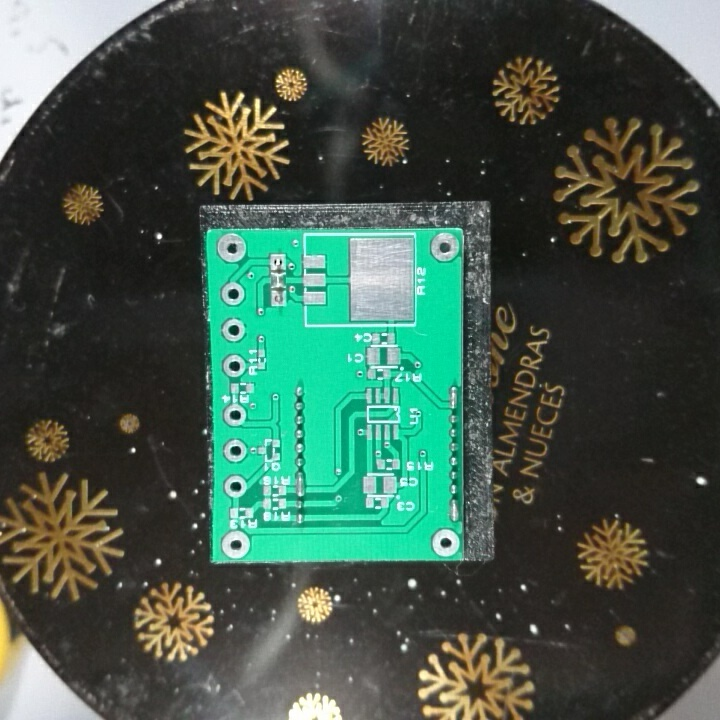F: (218, 526, 253, 559), (215, 230, 248, 264), (429, 232, 460, 265), (431, 526, 462, 557), (219, 351, 247, 383), (221, 436, 249, 466), (221, 472, 252, 499), (219, 280, 247, 309), (220, 315, 247, 345), (221, 402, 247, 432), (268, 287, 293, 311), (266, 249, 288, 274)
P: (293, 470, 310, 498), (447, 383, 461, 412), (447, 497, 461, 526)
